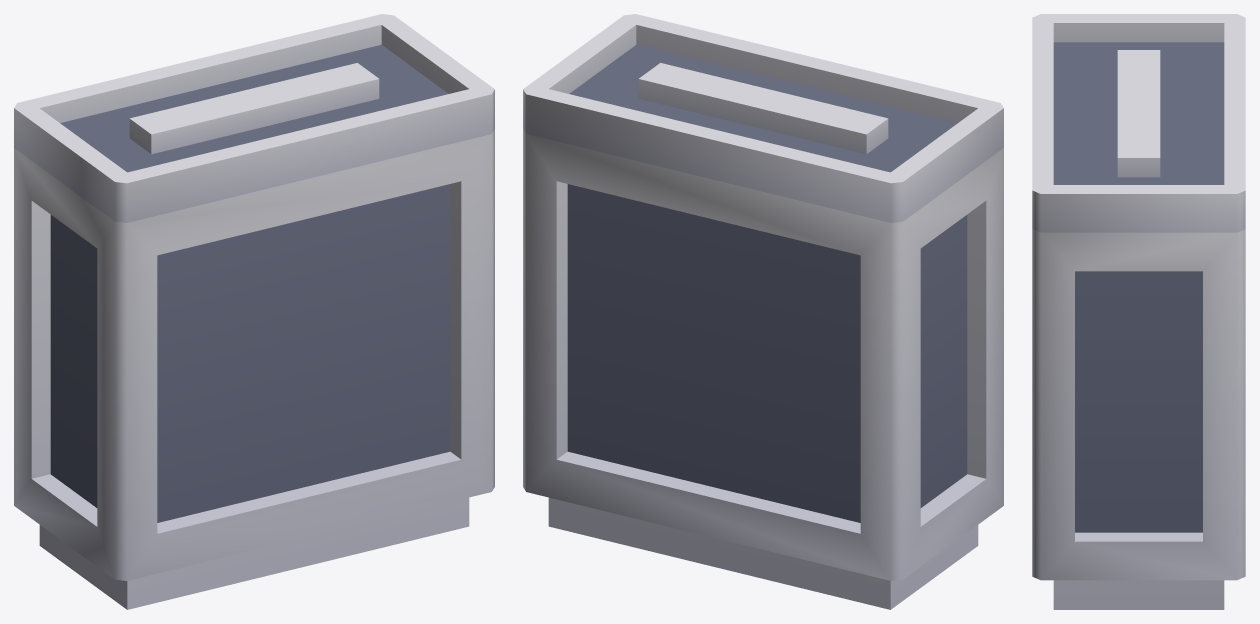
The model's file is low-detail-building-wide-a.glb.
3 views of the same model, side by side, from view 1: azimuth 30°, elevation 25°; view 2: azimuth 150°, elevation 25°; view 3: azimuth 270°, elevation 25° (orthographic). The views are drawn at different scales.
Visible parts, largest first — view 1: low-detail-building-wide-a; view 2: low-detail-building-wide-a; view 3: low-detail-building-wide-a.
Part boxes in pixels (x1=…): low-detail-building-wide-a: x1=14, y1=14, x2=494, y2=609; low-detail-building-wide-a: x1=523, y1=14, x2=1003, y2=609; low-detail-building-wide-a: x1=1032, y1=14, x2=1245, y2=609.
Bounding box in the file's own units: 1 × 1.1 × 0.5.
1 material, 1 textured.
